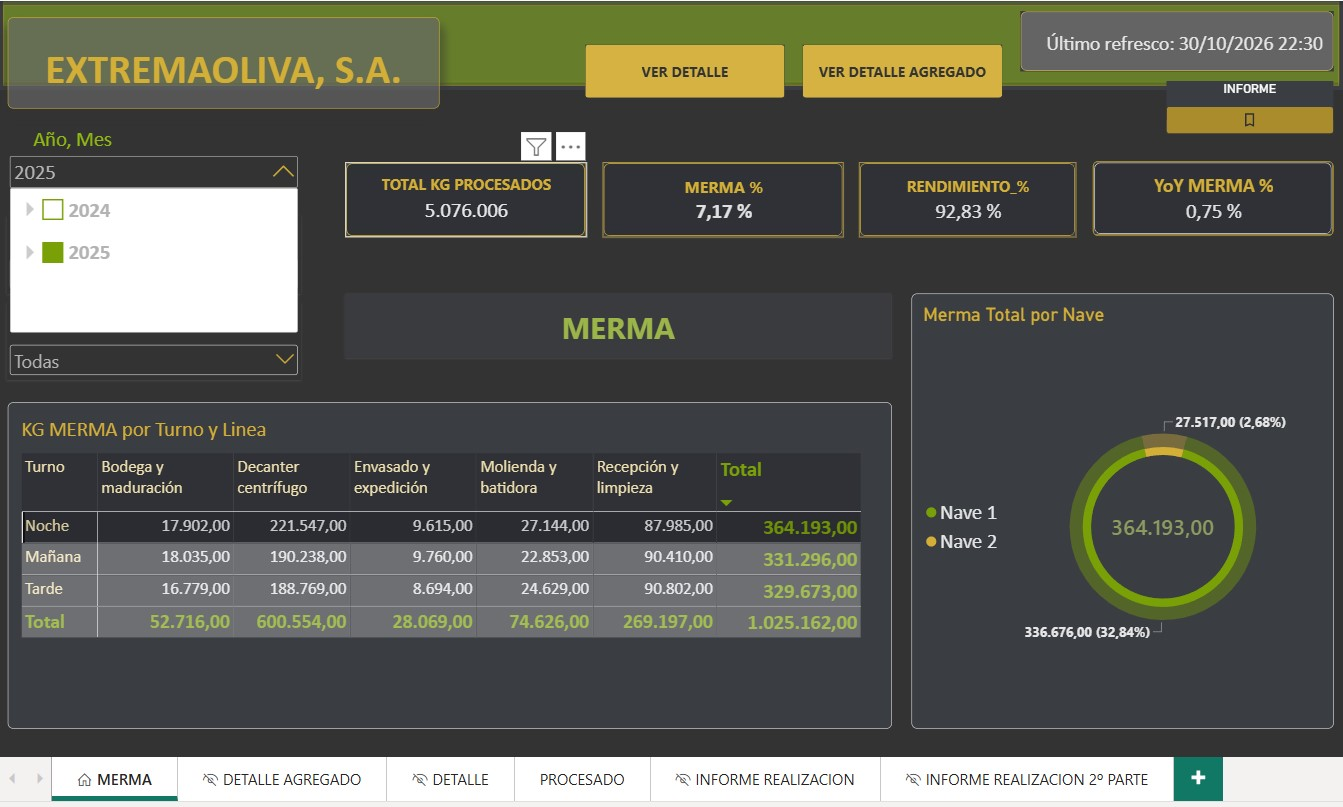

The dashboard page shown, as its layout file describes it:
{"tool":"powerbi","page":{"name":"MERMA","canvas":[1920,1080],"ordinal":0},"visuals":[{"type":"shape","box":[0,0,1920.6,127],"z":0},{"type":"slicer","title":" ⠀⠀Año, Mes","fields":{"Values":["Calendario.AÑO","Calendario.MES_LETRA"]},"box":[11.5,174.4,421,111],"z":1000},{"type":"textbox","box":[11.7,23.3,616.7,130],"z":2000},{"type":"slicer","title":"⠀⠀Sección","fields":{"Values":["Dim_Lineas.Seccion"]},"box":[11.5,429.5,421,111],"z":3000},{"type":"slicer","title":"⠀⠀Centro de Coste","fields":{"Values":["Dim_CentrosCoste.Nombre"]},"box":[11.5,307.7,421,111],"z":4000},{"type":"donutChart","title":" Merma Total por Nave","fields":{"Category":["Dim_Lineas.Nave"],"Y":["Fact_Produccion.TOTAL KG MERMA"]},"box":[1303.3,418.3,603.3,621.7],"z":5000},{"type":"pivotTable","title":"KG MERMA por Turno y Linea","fields":{"Columns":["Dim_Lineas.Nombre"],"Rows":["Dim_Turnos.Nombre"],"Values":["Fact_Produccion.TOTAL KG MERMA"]},"box":[11.7,573.3,1263.3,466.7],"z":6000},{"type":"cardVisual","fields":{"Data":["Fact_Produccion.TOTAL KG PROCESADOS"]},"box":[494.8,231.2,344,107],"z":7000},{"type":"cardVisual","fields":{"Data":["Fact_Produccion.MERMA %"]},"box":[862.3,231.2,344,107],"z":8000},{"type":"cardVisual","fields":{"Data":["Fact_Produccion.RENDIMIENTO_%"]},"box":[1228.6,229.9,310,107.1],"z":9000},{"type":"cardVisual","fields":{"Data":["Fact_Produccion.% DIF AÑO ANTERIOR EN MERMA"]},"box":[1562.3,228.6,344.3,107.1],"z":10000},{"type":"textbox","box":[495,418.3,780,91.7],"z":11000},{"type":"actionButton","box":[1148.3,63.3,284.6,75.6],"z":12000},{"type":"actionButton","box":[838.3,63.3,284.6,75.6],"z":13000},{"type":"cardVisual","fields":{"Data":["Calendario.Último Refresco"]},"box":[1458.3,15,448.3,86.7],"z":14000},{"type":"actionButton","title":"INFORME","box":[1668.3,115,238.3,75],"z":16000}]}

Visuals, with their boxes on the page's 1920x1080 design canvas (x1, y1, x2, y2). These are canvas units, not pixel positions in the 1343x807 screenshot, which may show the page scaled, cropped or inside an application window:
shape: <region>0, 0, 1921, 127</region>
" ⠀⠀Año, Mes" slicer: <region>12, 174, 432, 285</region>
textbox: <region>12, 23, 628, 153</region>
"⠀⠀Sección" slicer: <region>12, 430, 432, 540</region>
"⠀⠀Centro de Coste" slicer: <region>12, 308, 432, 419</region>
" Merma Total por Nave" donutChart: <region>1303, 418, 1907, 1040</region>
"KG MERMA por Turno y Linea" pivotTable: <region>12, 573, 1275, 1040</region>
cardVisual - Fact_Produccion.TOTAL KG PROCESADOS: <region>495, 231, 839, 338</region>
cardVisual - Fact_Produccion.MERMA %: <region>862, 231, 1206, 338</region>
cardVisual - Fact_Produccion.RENDIMIENTO_%: <region>1229, 230, 1539, 337</region>
cardVisual - Fact_Produccion.% DIF AÑO ANTERIOR EN MERMA: <region>1562, 229, 1907, 336</region>
textbox: <region>495, 418, 1275, 510</region>
actionButton: <region>1148, 63, 1433, 139</region>
actionButton: <region>838, 63, 1123, 139</region>
cardVisual - Calendario.Último Refresco: <region>1458, 15, 1907, 102</region>
"INFORME" actionButton: <region>1668, 115, 1907, 190</region>
